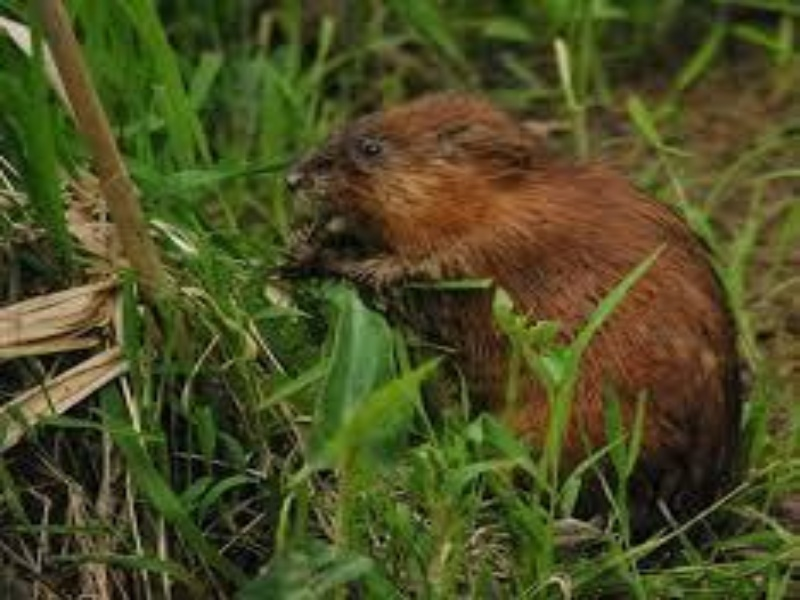minkish: (284, 94, 748, 570)
